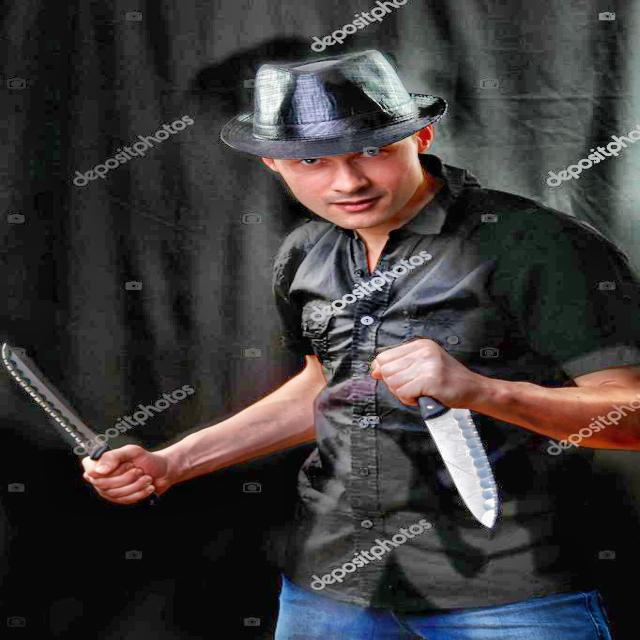knife: (2, 348, 160, 507), (414, 397, 498, 527)
